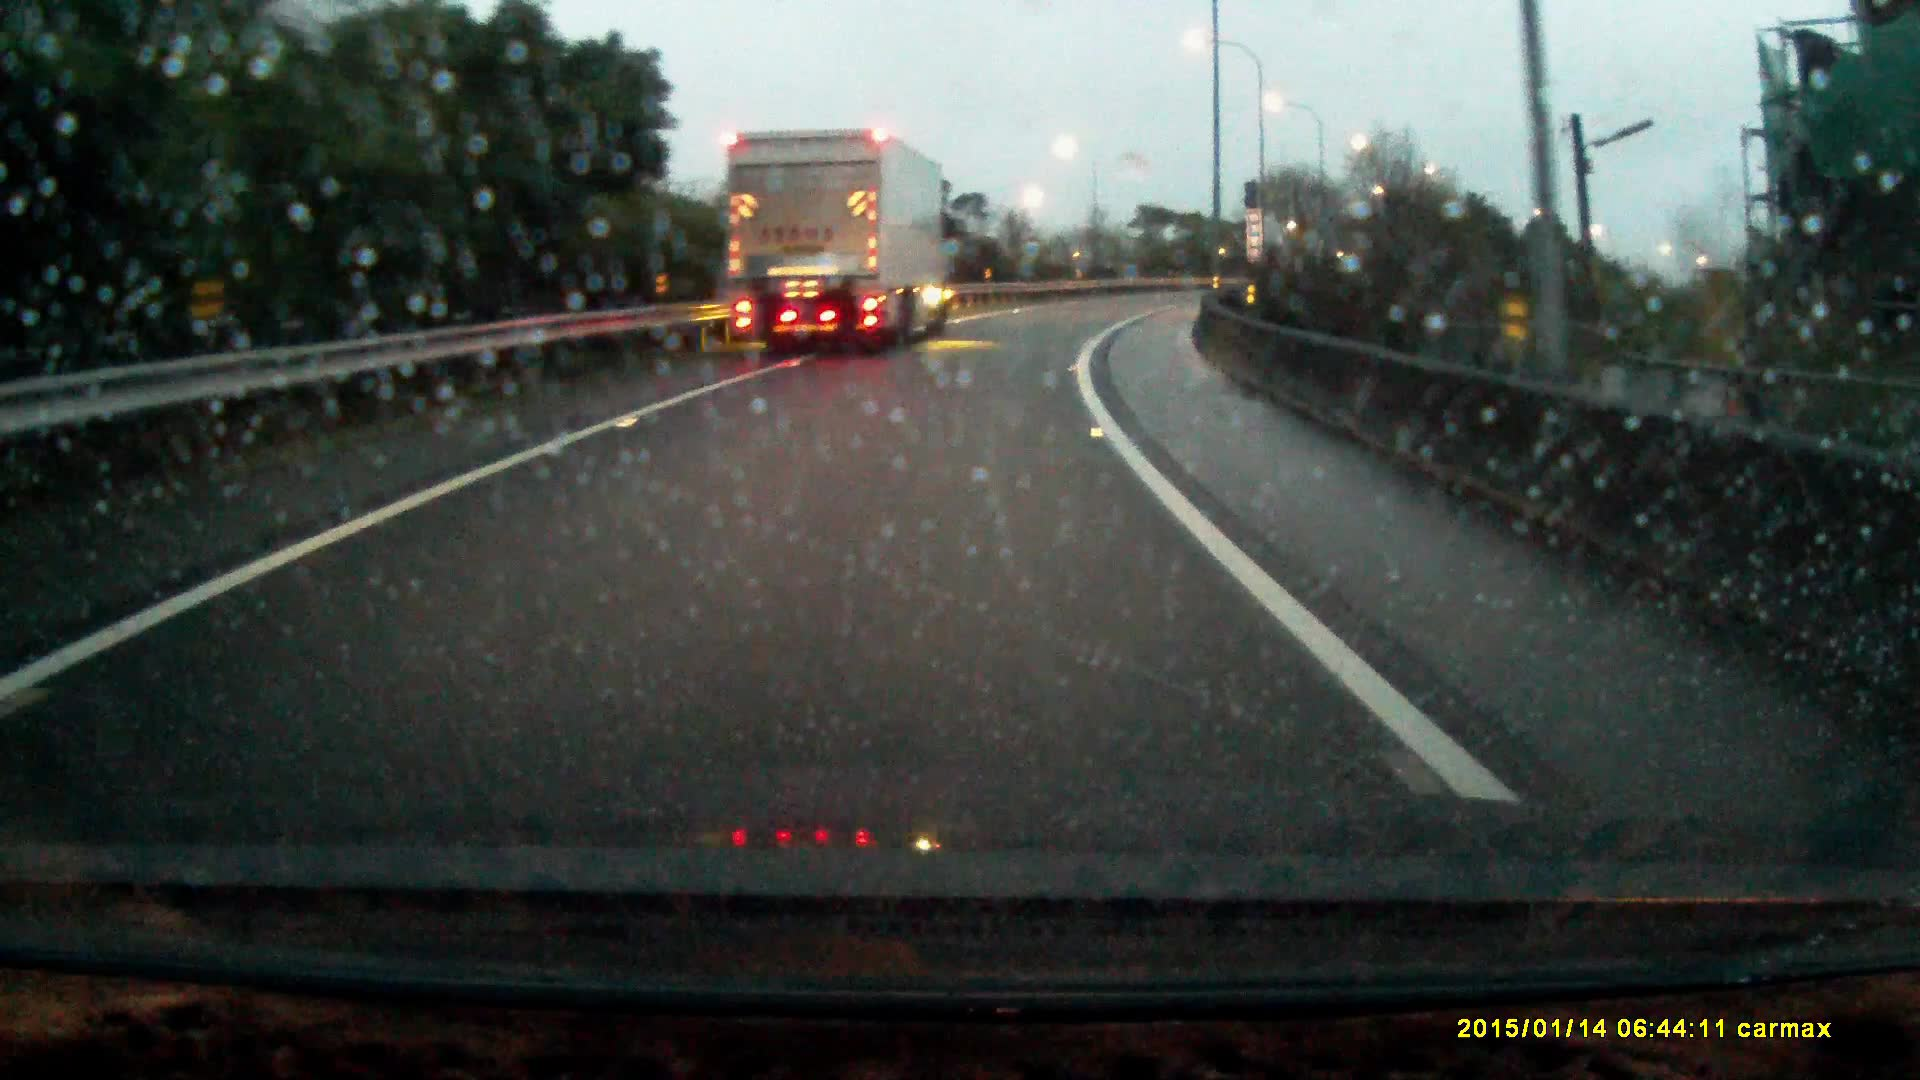vehicle: (725, 131, 953, 361)
